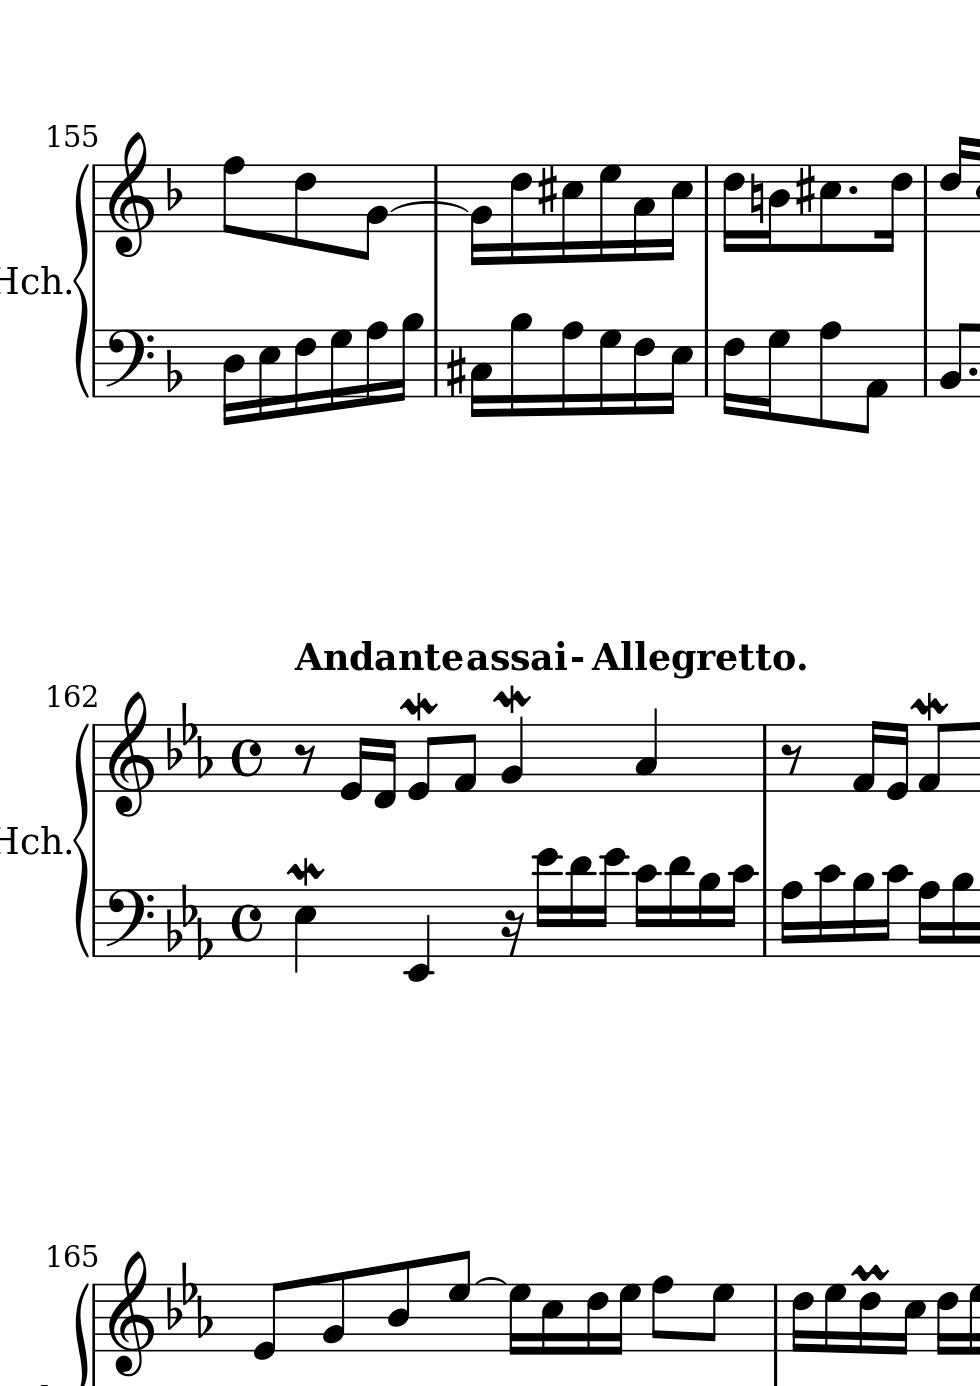1: (46, 1242, 60, 1271), (46, 682, 60, 710), (47, 122, 62, 150)
16_-1: (372, 722, 397, 810)
16_0: (337, 722, 368, 803), (885, 721, 908, 802)
16_1: (850, 719, 882, 794)
16_10: (880, 864, 910, 960), (727, 863, 755, 960), (816, 862, 842, 958), (633, 864, 658, 958)
16_11: (565, 855, 593, 959), (665, 855, 692, 959)
16_12: (595, 846, 628, 959), (532, 846, 561, 959)
16_2: (468, 163, 492, 268)
16_3: (631, 163, 657, 263), (468, 328, 492, 419)
16_4: (220, 328, 244, 426), (765, 162, 789, 252)
16_5: (663, 163, 694, 261), (662, 328, 694, 416), (255, 327, 281, 422), (560, 162, 584, 264), (894, 1282, 926, 1357), (539, 1282, 565, 1357)
16_6: (937, 133, 970, 235), (876, 163, 913, 253), (508, 162, 531, 266), (291, 326, 316, 417), (631, 326, 655, 416), (721, 327, 745, 417), (721, 163, 743, 252), (857, 1283, 882, 1356), (584, 1282, 609, 1357), (934, 1282, 958, 1357), (790, 1282, 813, 1354)
16_7: (757, 327, 789, 421), (597, 160, 622, 264), (596, 327, 622, 417), (327, 327, 352, 413), (611, 1282, 640, 1357), (506, 1282, 531, 1359), (822, 1282, 845, 1356)
16_8: (559, 320, 583, 418), (363, 320, 387, 407), (778, 880, 802, 958), (916, 880, 939, 959)
16_9: (507, 310, 532, 420), (393, 311, 423, 404), (949, 871, 974, 959), (850, 872, 874, 958), (698, 874, 720, 959)
2: (78, 682, 99, 710)
4_-2: (404, 887, 433, 984)
4_2: (498, 715, 524, 793)
4_3: (633, 707, 658, 792)
4_5: (291, 888, 318, 973)
5: (80, 121, 98, 150), (81, 1241, 98, 1270), (62, 122, 78, 150)
6: (62, 1242, 80, 1271), (62, 682, 80, 710)
8_0: (252, 1279, 286, 1361), (406, 722, 438, 801)
8_1: (858, 327, 889, 435), (916, 722, 947, 794), (452, 723, 478, 795)
8_2: (355, 163, 387, 264), (938, 321, 969, 398), (320, 1270, 346, 1352)
8_4: (385, 1259, 412, 1353)
8_5: (817, 162, 842, 255)
8_6: (292, 162, 317, 250)
8_7: (447, 1247, 472, 1354), (703, 1282, 733, 1352)
8_8: (816, 320, 841, 429), (220, 154, 246, 235), (649, 1274, 673, 1354)
Brace: (73, 721, 92, 953), (74, 157, 92, 398)
E_F: (163, 699, 215, 780), (163, 883, 215, 961), (164, 1261, 213, 1339)
Fclef: (103, 887, 154, 959), (102, 328, 152, 399)
Flat: (163, 165, 183, 213), (164, 347, 183, 393)
Gclef: (106, 689, 155, 822), (106, 130, 155, 259), (106, 1248, 154, 1379)
Hch: (1, 260, 62, 298), (1, 824, 62, 859)
Mordent: (399, 691, 438, 723), (492, 684, 531, 715), (909, 691, 948, 722), (286, 856, 323, 887)
Natural: (748, 171, 764, 223)
Rests16: (498, 908, 524, 958)
Rests8: (293, 741, 317, 776), (780, 742, 804, 776)
Sharp: (443, 346, 466, 398), (537, 163, 558, 217), (795, 163, 815, 216)
ShortTrill: (847, 1259, 894, 1282)
Single_barline: (427, 165, 445, 233), (697, 329, 714, 398), (698, 165, 715, 233), (427, 329, 444, 397), (767, 1284, 784, 1352), (756, 890, 773, 957), (917, 165, 933, 232), (756, 725, 772, 792), (917, 330, 933, 396), (88, 165, 102, 233), (88, 330, 102, 398), (88, 1284, 102, 1352), (88, 725, 101, 792), (88, 890, 101, 957)
Slur: (388, 201, 469, 216), (476, 1275, 507, 1286)
TimeSig: (229, 887, 268, 957), (227, 723, 266, 792), (228, 723, 264, 794), (228, 888, 265, 957)
dot: (846, 183, 859, 197), (966, 366, 979, 379)
